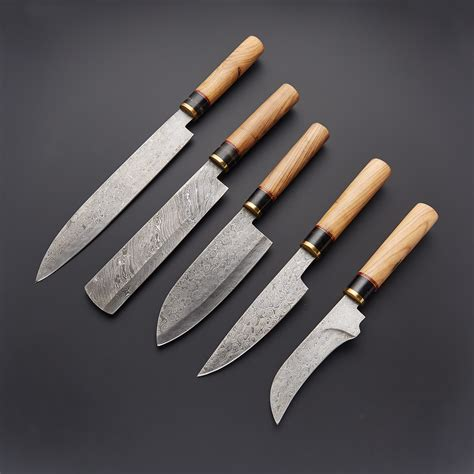knife: (34, 34, 264, 285), (82, 82, 301, 314), (197, 156, 392, 376), (156, 120, 330, 347), (268, 200, 440, 425)
